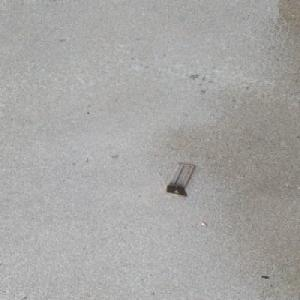MetalPart: (164, 162, 196, 196)
